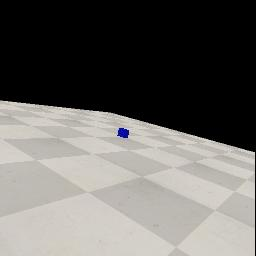box: (117, 128, 129, 138)
